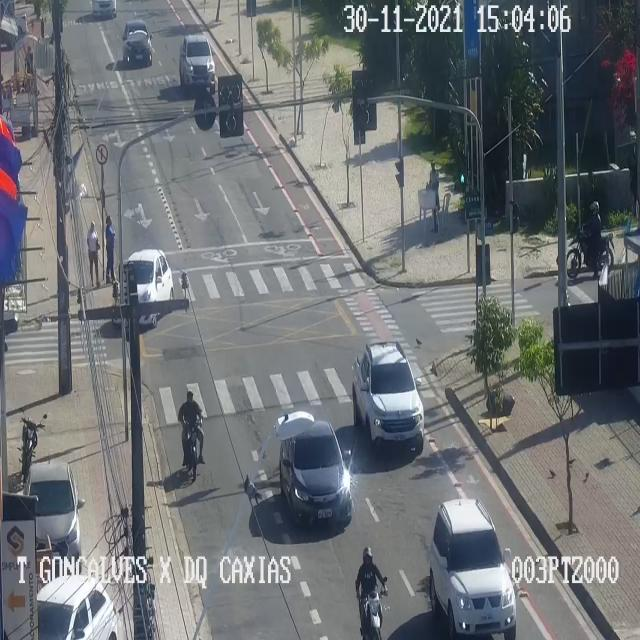Car: (430, 498, 515, 634), (279, 420, 351, 519), (352, 344, 423, 444), (25, 461, 81, 571), (37, 574, 117, 639), (113, 248, 173, 324), (180, 34, 214, 87), (123, 20, 151, 62), (94, 0, 115, 19)
Motorcycle: (567, 201, 613, 277), (356, 546, 386, 639), (181, 391, 203, 480), (21, 419, 37, 481)
